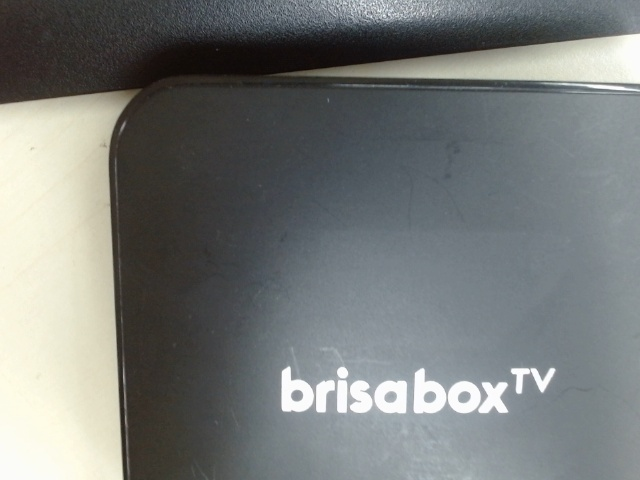AH_brisabox: (277, 353, 562, 423)
